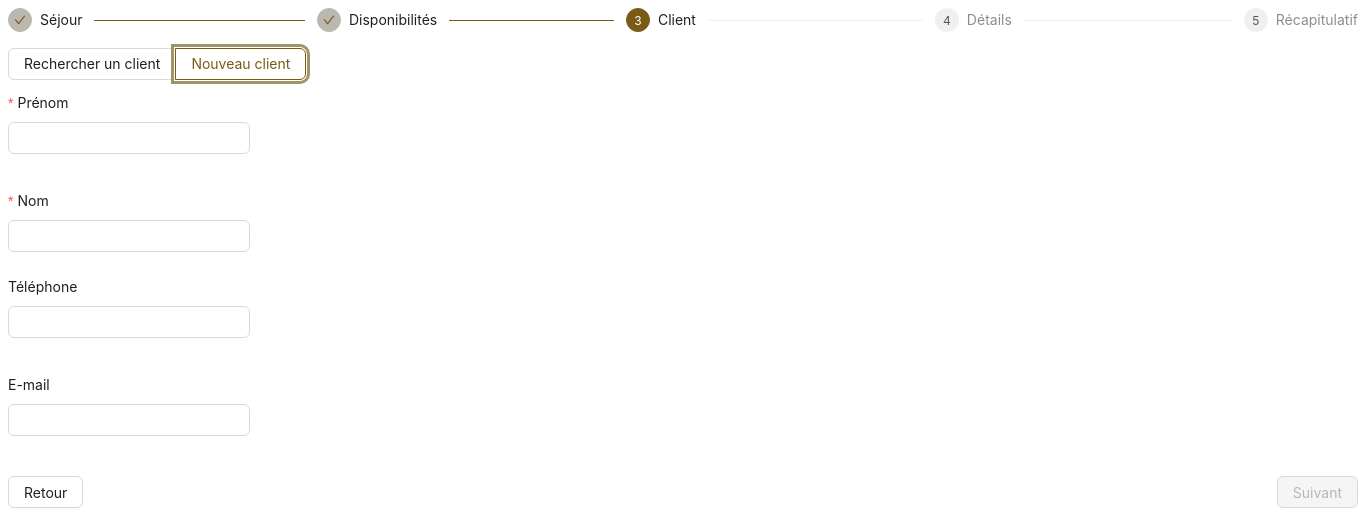
Test case: NewReservationWizard › walks dates → availability → rooms → guest → details → summary → create with an Idempotency-Key
Earlier steps of the test are not shown.
Step 1. Type "Awa" into the field named "Prénom" → [129, 138], box [8,122,250,154]
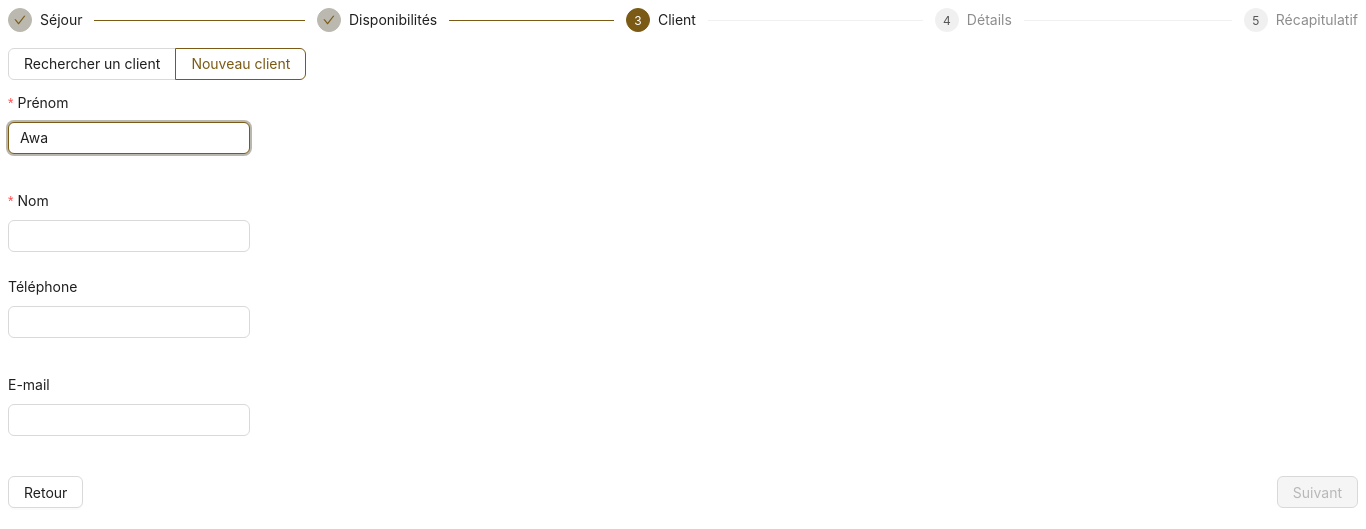
Step 2. Type "Koffi" into the field named "Nom" → [129, 236], box [8,220,250,252]
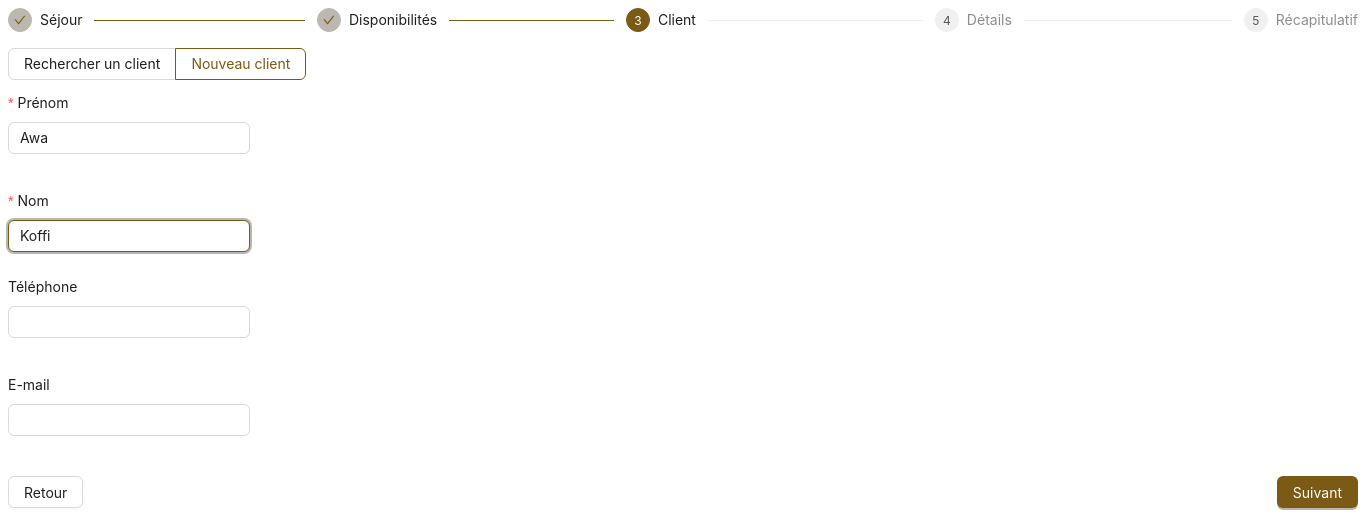
Step 3. Click the button "Suivant" → [1317, 492], box [1277,476,1358,508]
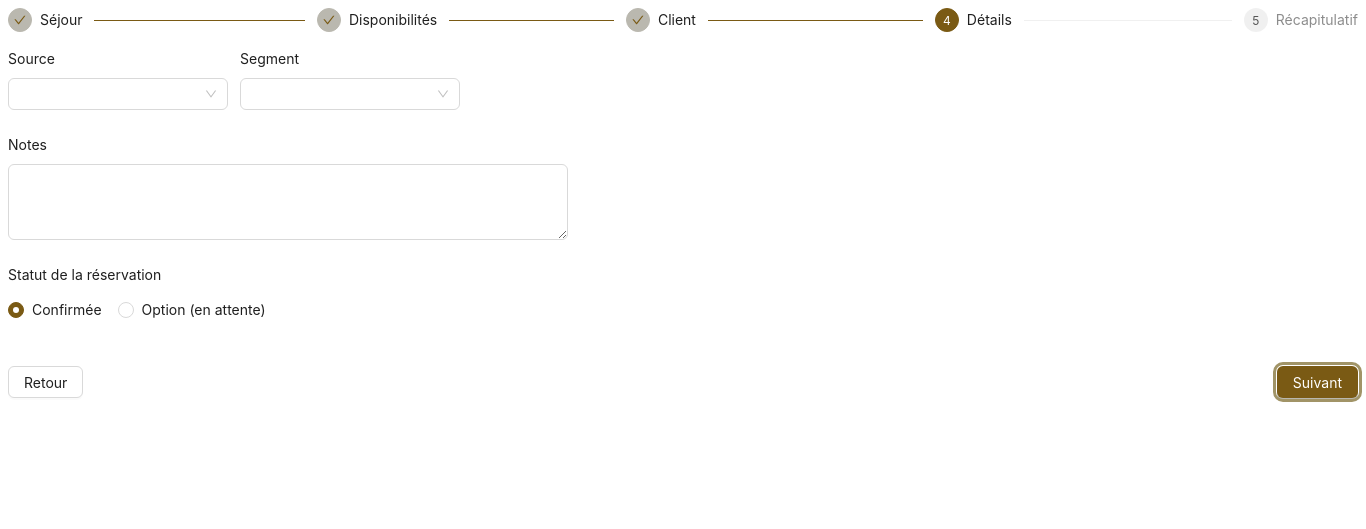
// details: PENDING option
Step 4. Click the text "Option (en attente)" → [204, 310], box [134,299,274,321]
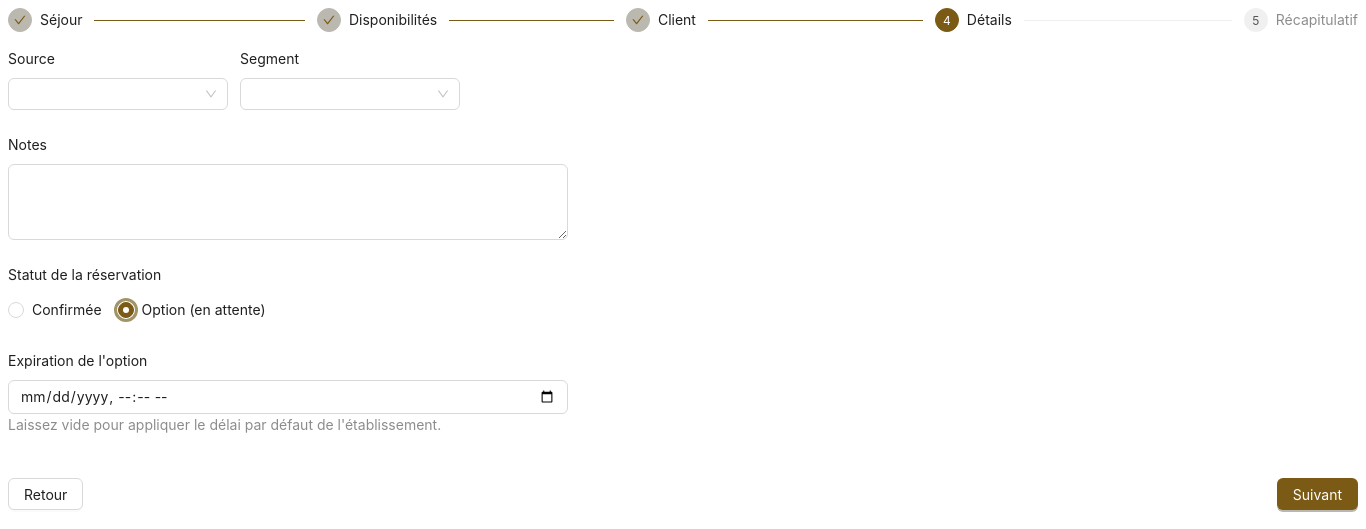
Step 5. Click the button "Suivant" → [1317, 494], box [1277,478,1358,510]
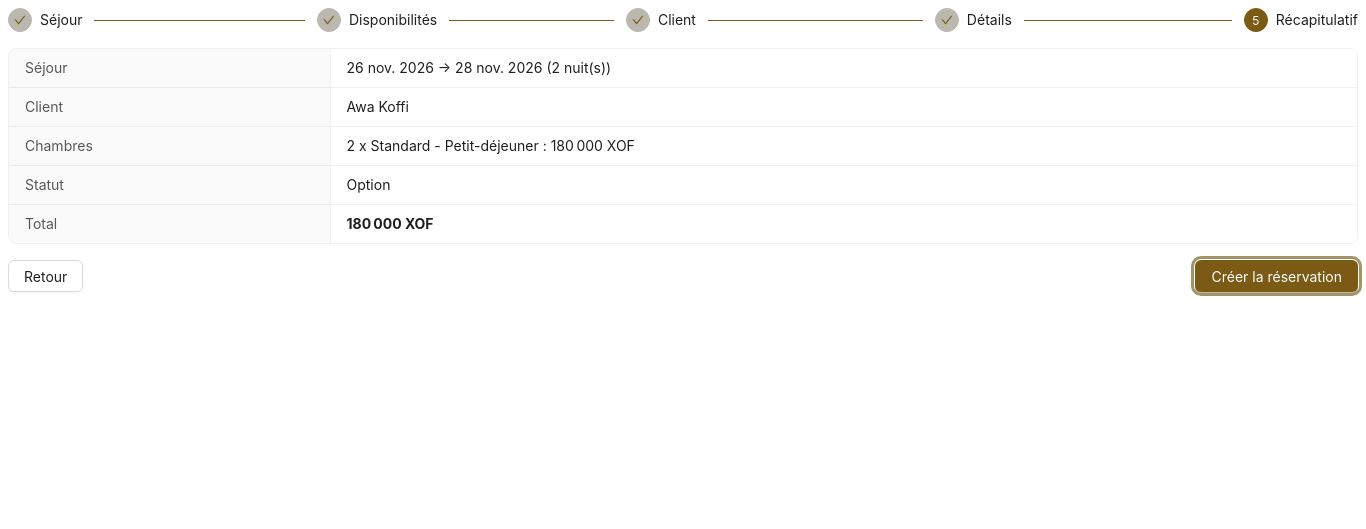
Now the text with test id "grand-total" reads "180 000 XOF", box [346,215,434,232]
Step 6. Click the button "Créer la réservation" → [1277, 276], box [1196,260,1358,292]
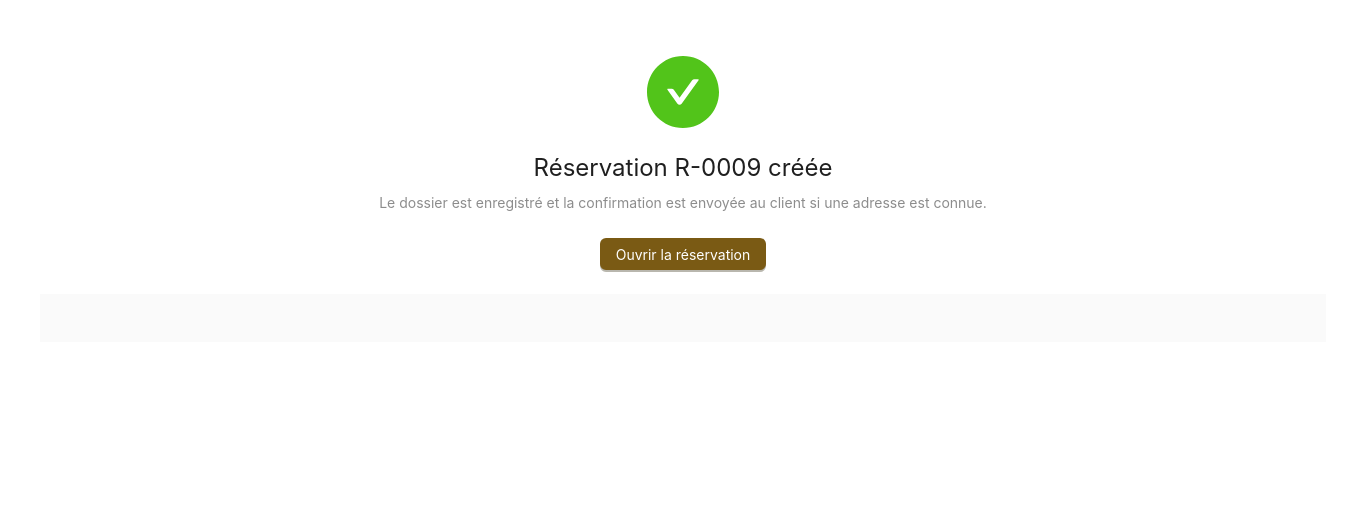
Now the text "Réservation R-0009 créée" is shown, box [534,153,832,182]
